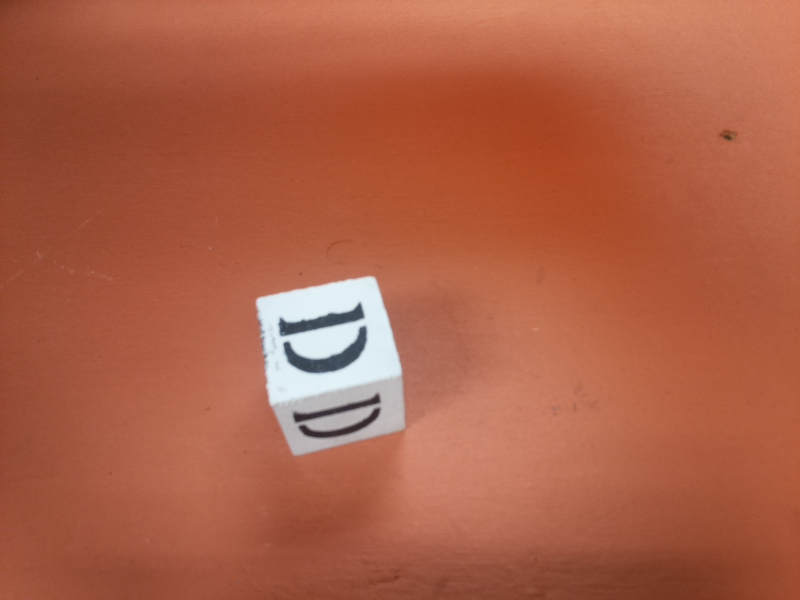blockD: (252, 274, 408, 454)
